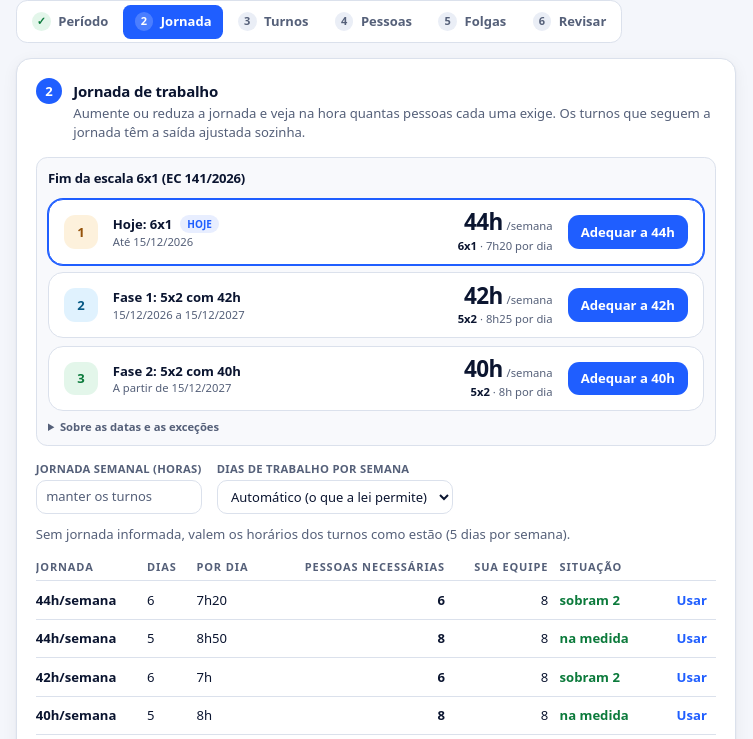
Test case: Gerar escala: fim da 6x1 › avisa se a jornada passa do teto da fase do mês
In the number field labelled "Jornada semanal (horas)": (119, 497) x1=36 y1=480 x2=202 y2=514, type "44"
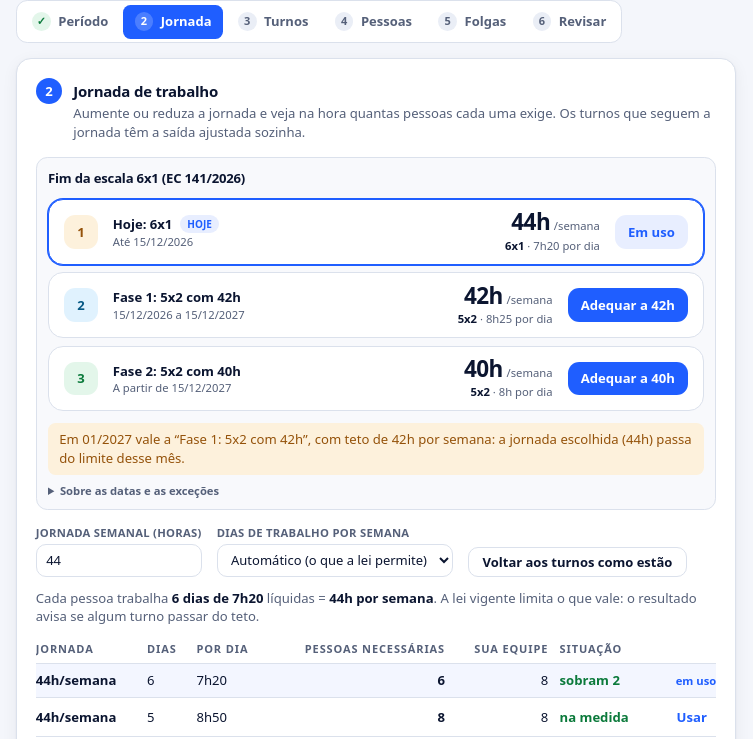
Expected: the message shows "teto de 42h", x1=48 y1=422 x2=704 y2=475
Click the button with aria-label "Adequar à Fase 2: 5x2 com 40h": (628, 378) x1=568 y1=362 x2=688 y2=395
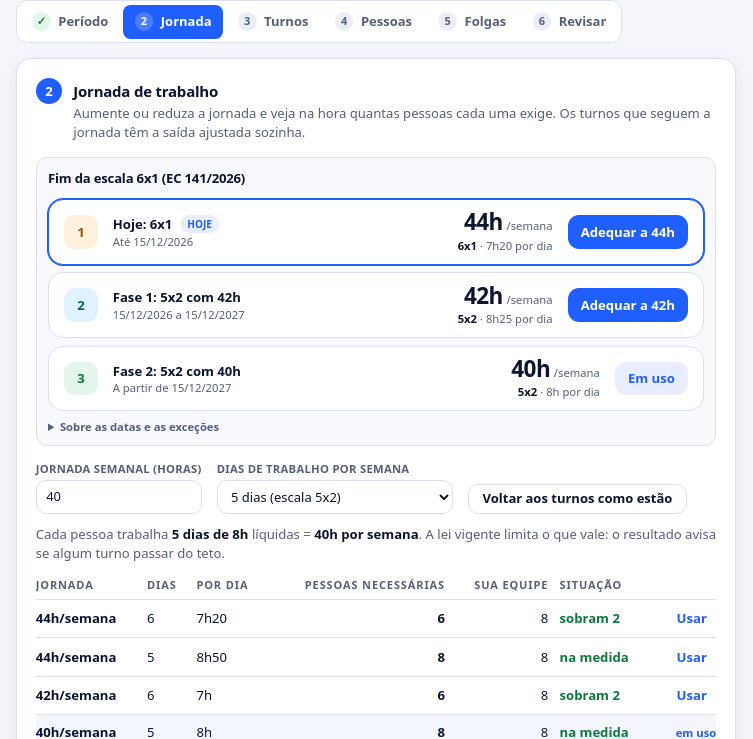
Expected: the number field labelled "Jornada semanal (horas)" holds "40", x1=36 y1=480 x2=202 y2=514
Expected: the message is gone
